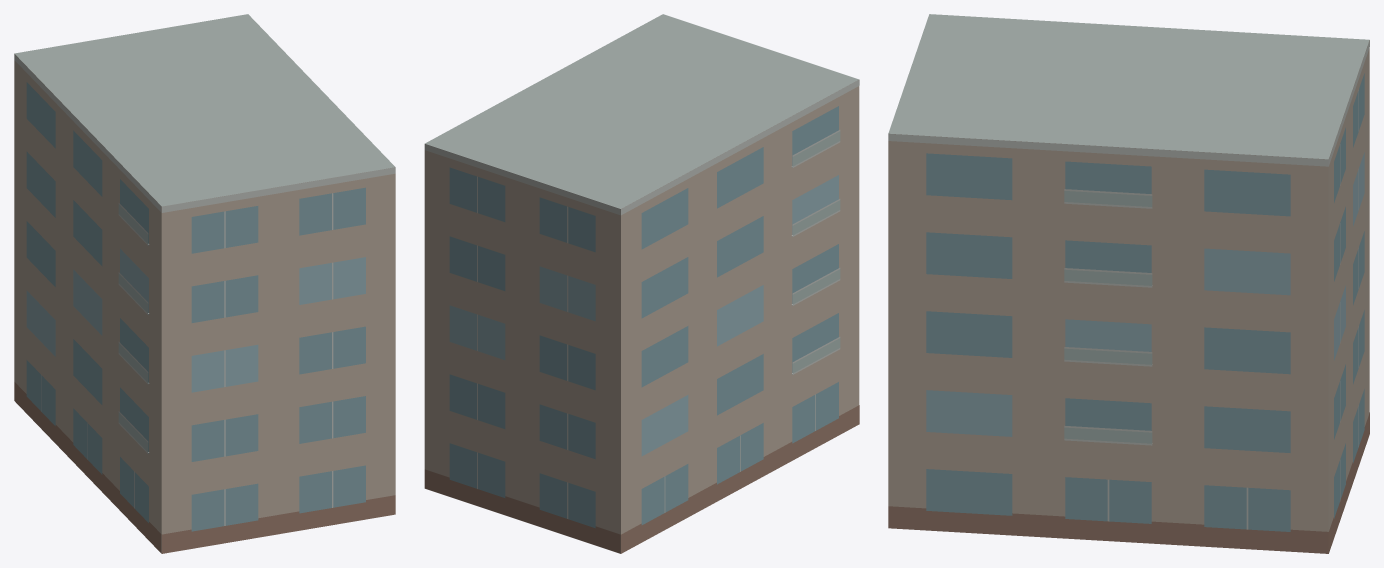
Rendered from survey-upis-32637702.glb.
3 renders of one model, left to right at view 1: azimuth 30°, elevation 25°; view 2: azimuth 150°, elevation 25°; view 3: azimuth 270°, elevation 25°, orthographic. The views are drawn at different scales.
Visible parts, largest first — view 1: survey-upis-32637702.tmp; view 2: survey-upis-32637702.tmp; view 3: survey-upis-32637702.tmp.
Part boxes in pixels (x1,y1,x2,y2): survey-upis-32637702.tmp: [14, 14, 395, 553]; survey-upis-32637702.tmp: [424, 14, 859, 553]; survey-upis-32637702.tmp: [888, 14, 1369, 553].
Bounding box in the file's own units: 10.4 × 13.15 × 14.55.
